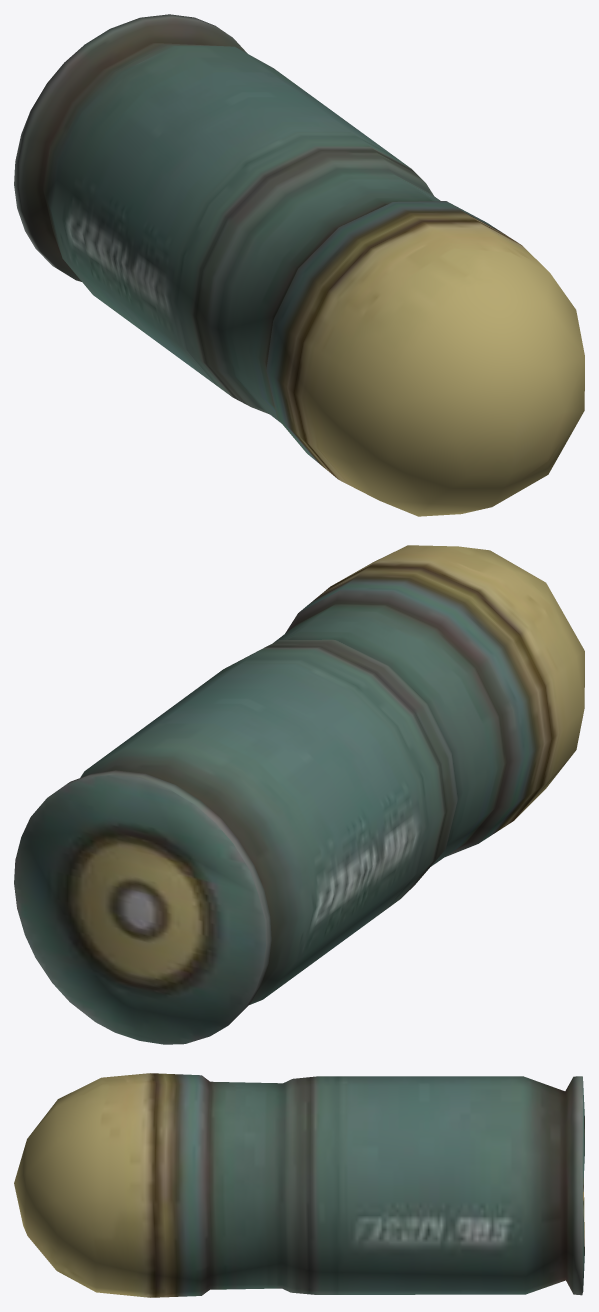
The model's file is 40mm_grenade_smoke.glb.
The picture shows the model from 3 angles, top to bottom: view 1: azimuth 30°, elevation 25°; view 2: azimuth 150°, elevation 25°; view 3: azimuth 270°, elevation 25°; orthographic projection. The views are drawn at different scales.
Visible parts, largest first — view 1: GLAmmo; view 2: GLAmmo; view 3: GLAmmo.
Part boxes in pixels (x1,y1,x2,y2): GLAmmo: [14, 14, 584, 516]; GLAmmo: [14, 545, 584, 1044]; GLAmmo: [14, 1073, 584, 1297].
Bounding box in the file's own units: 0.0616 × 0.0615 × 0.1565.
1 material, 1 textured.
